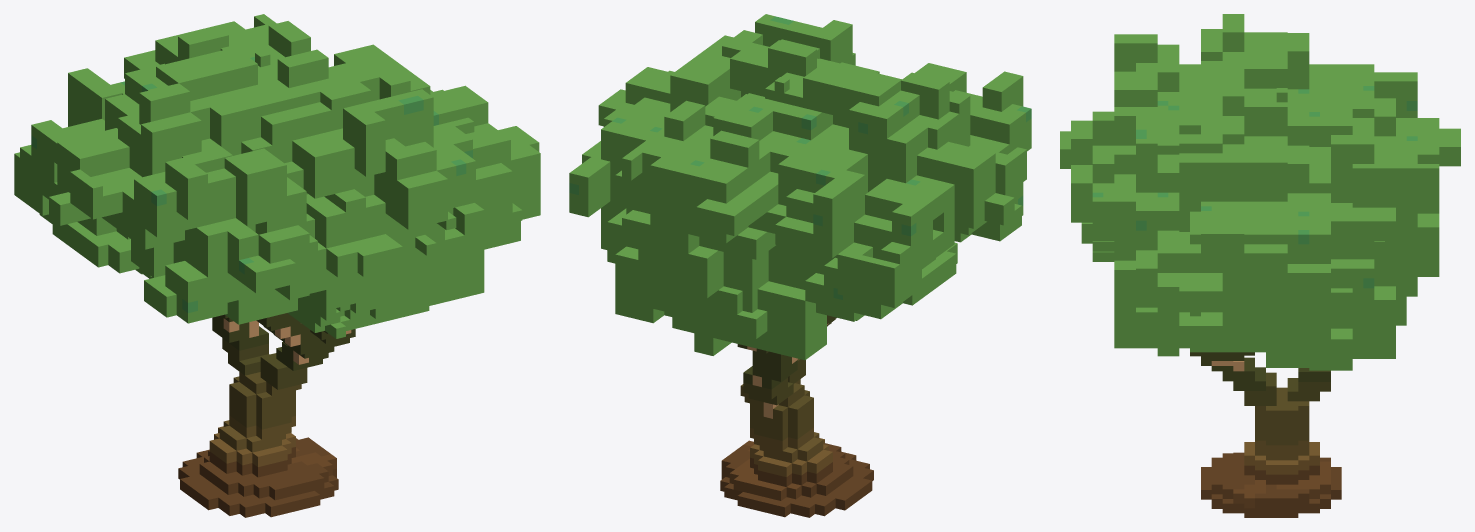
The model's file is 2_3 acer.obj.
3 views of the same model, side by side, from view 1: azimuth 30°, elevation 25°; view 2: azimuth 150°, elevation 25°; view 3: azimuth 270°, elevation 25° (orthographic). The views are drawn at different scales.
Size of the model in its own units: 4.5 by 4.2 by 3.7.
1 material, 1 textured.
